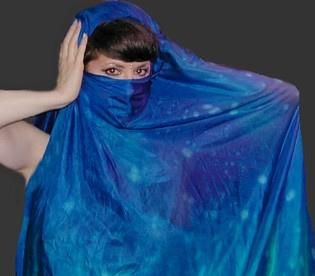OK: (89, 54, 156, 121)
